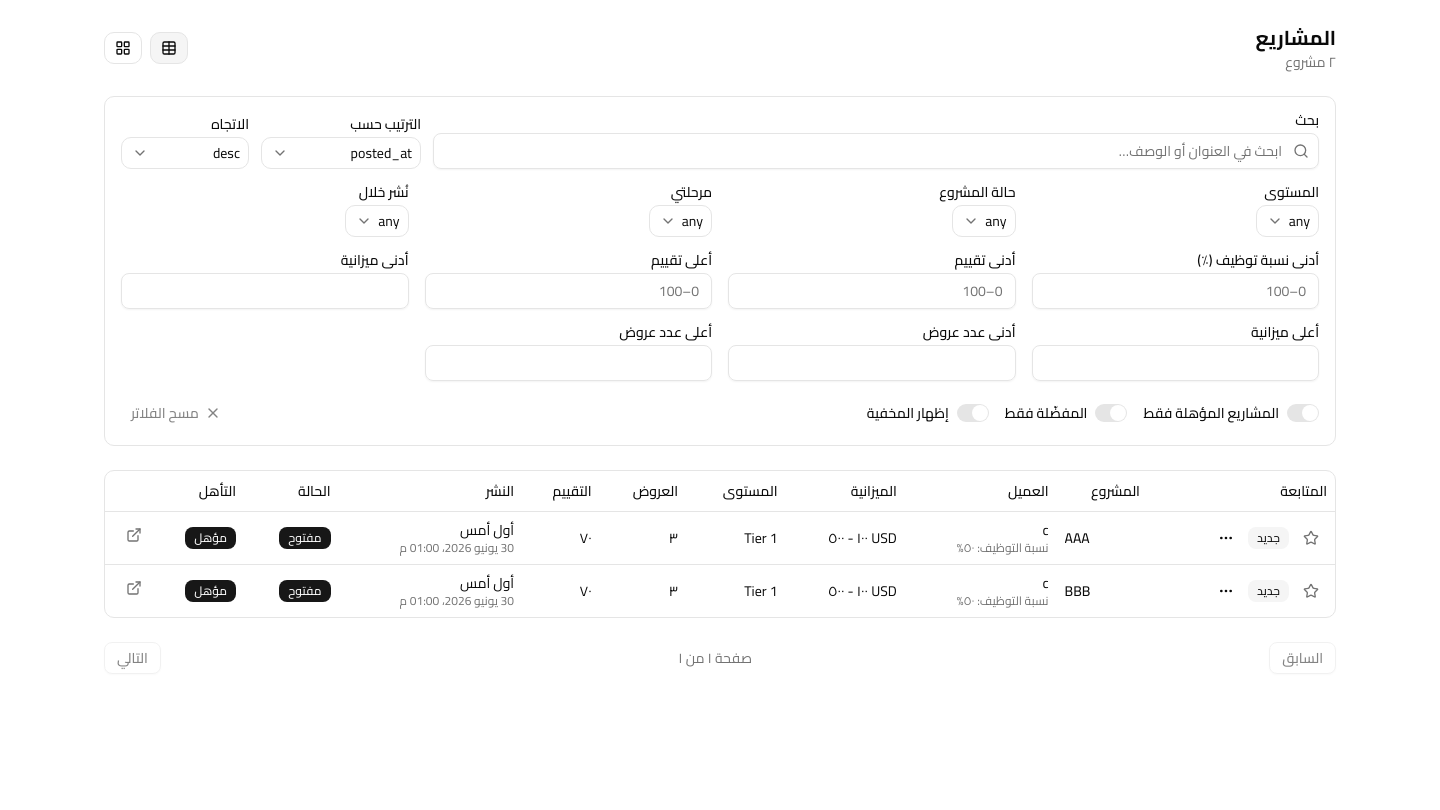
it: projects page view toggle › switches table <-> cards on click and persists the choice
This screenshot has width=1440, height=810.
Expected: the table is shown, x1=105 y1=471 x2=1335 y2=616
Step 1. Click the button named "عرض بطاقات" → (123, 48), box x1=104 y1=32 x2=142 y2=64
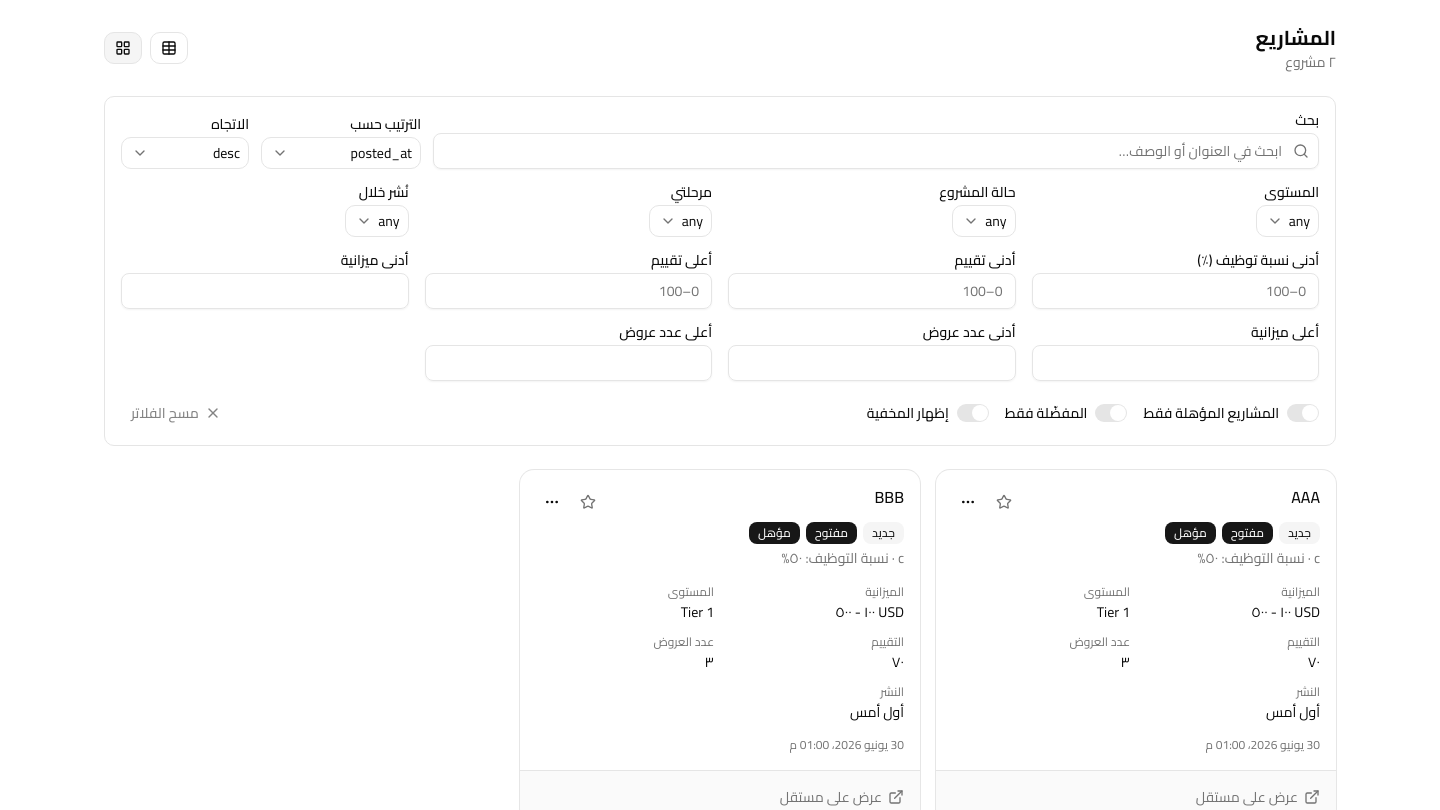
Result: the table is gone
Step 2. Click the button named "عرض جدول" → (169, 48), box x1=150 y1=32 x2=188 y2=64
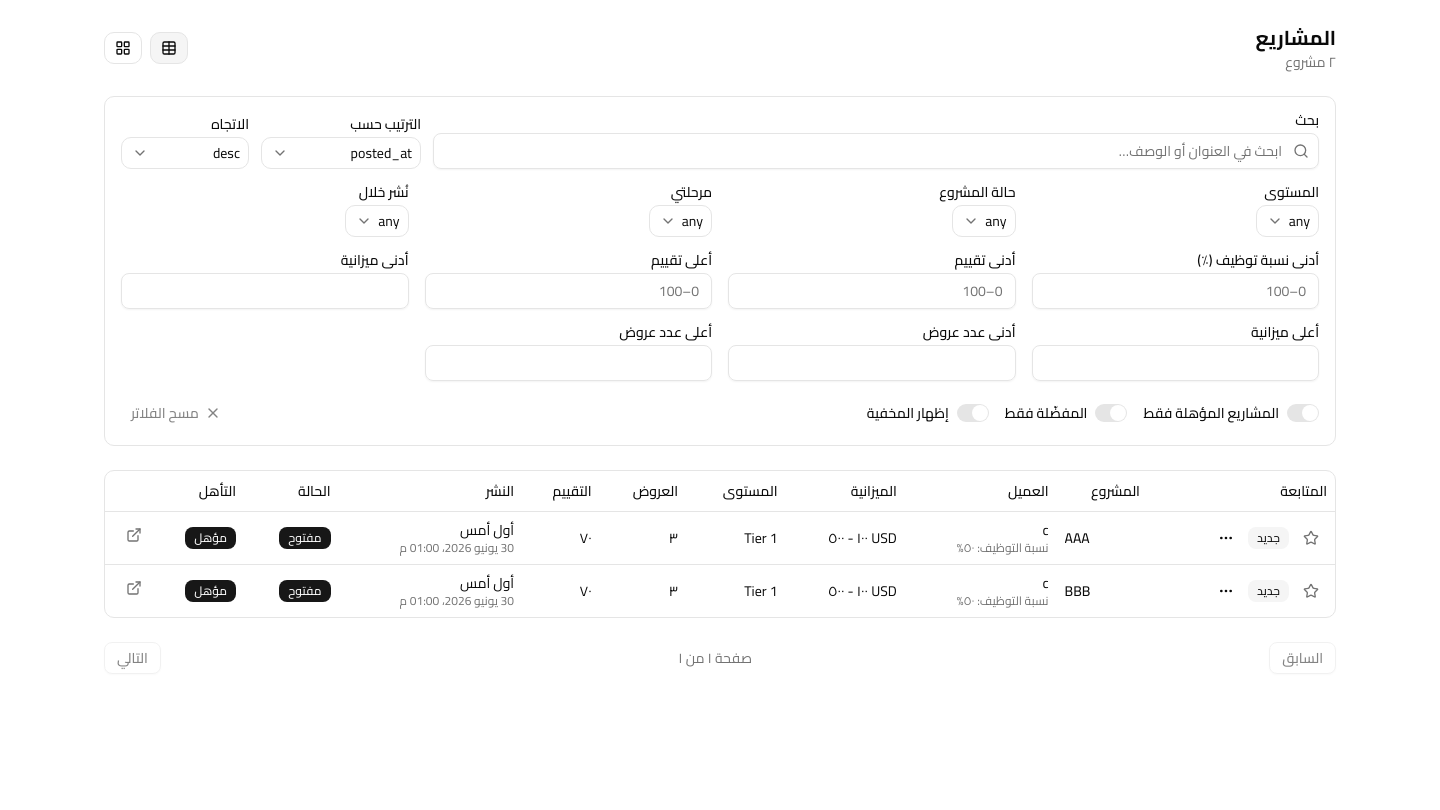
Result: the table is shown at x1=105 y1=471 x2=1335 y2=616
